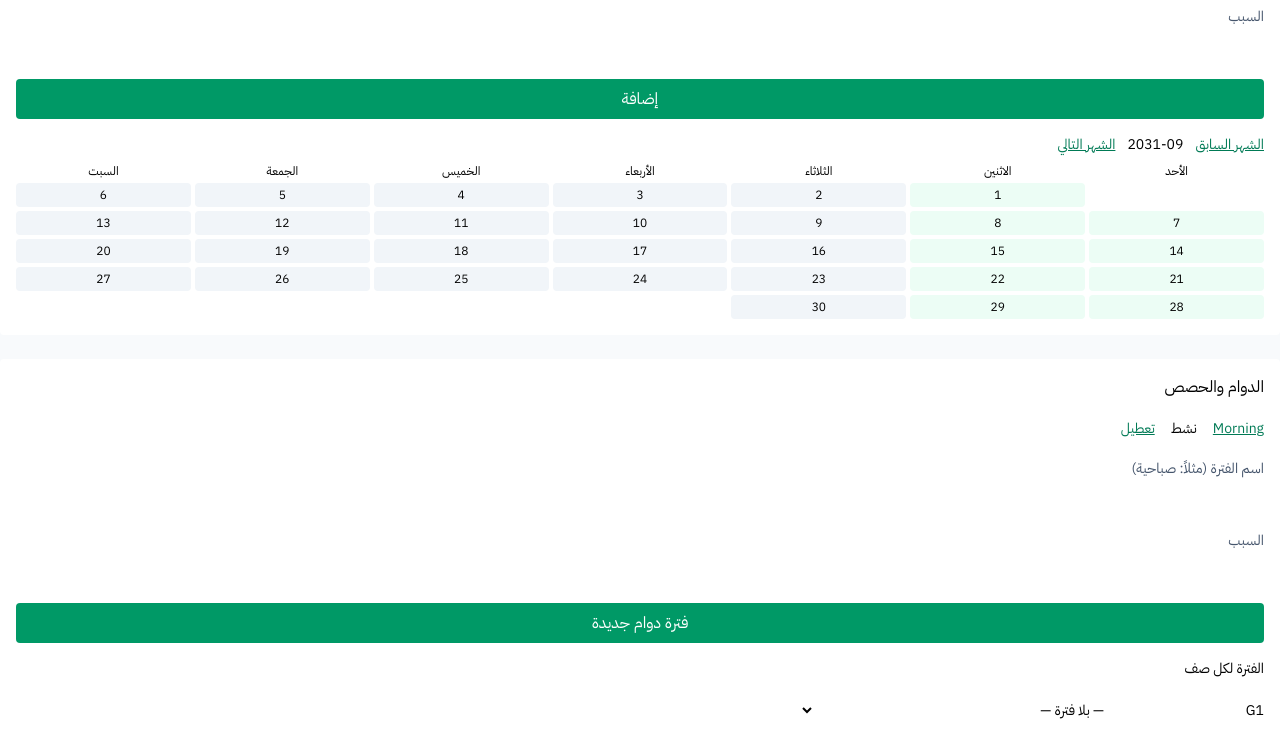
it: year page › bell schedules (2B-3) › an overlapping period: the database refusal is shown translated
(page scrolled)
Click the button with test id "bell-schedule-open-Morning": (1238, 429) top-left (1213, 419), bottom-right (1264, 439)
(page scrolled)
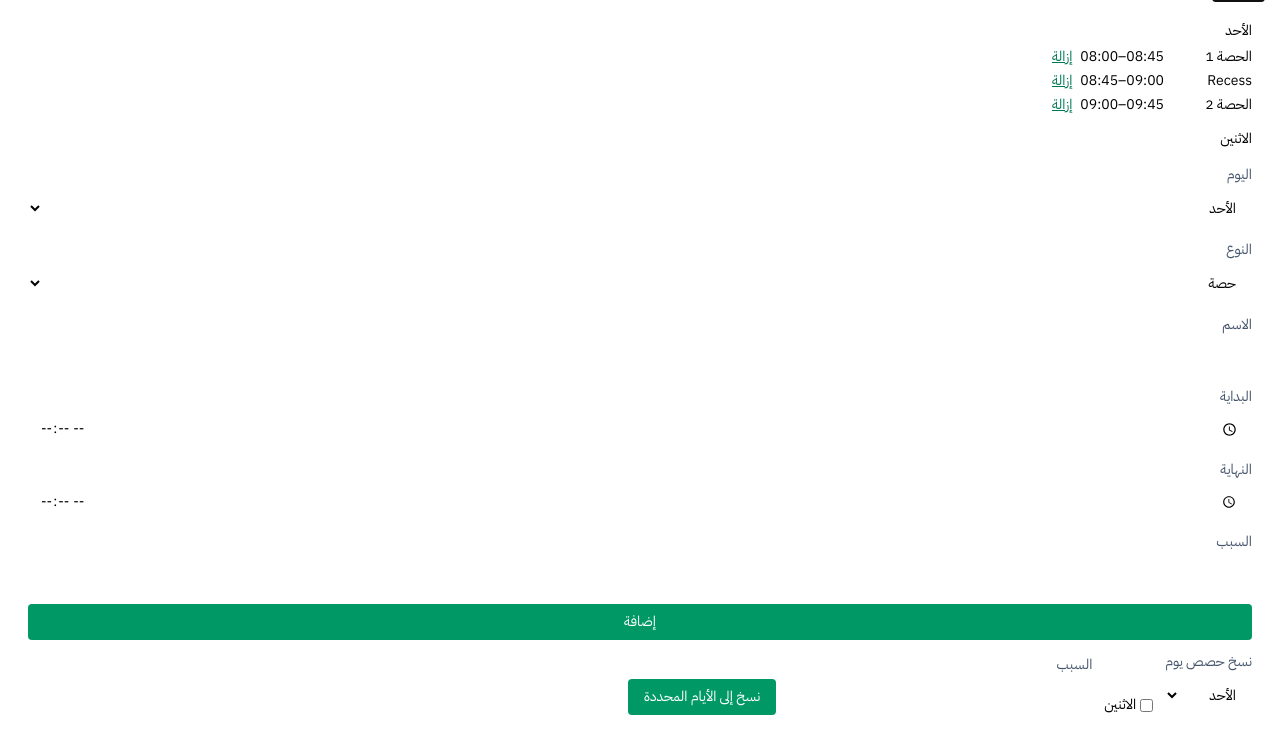
In the time field with test id "bell-period-start": (640, 429) top-left (28, 411), bottom-right (1252, 448), type "09:30"
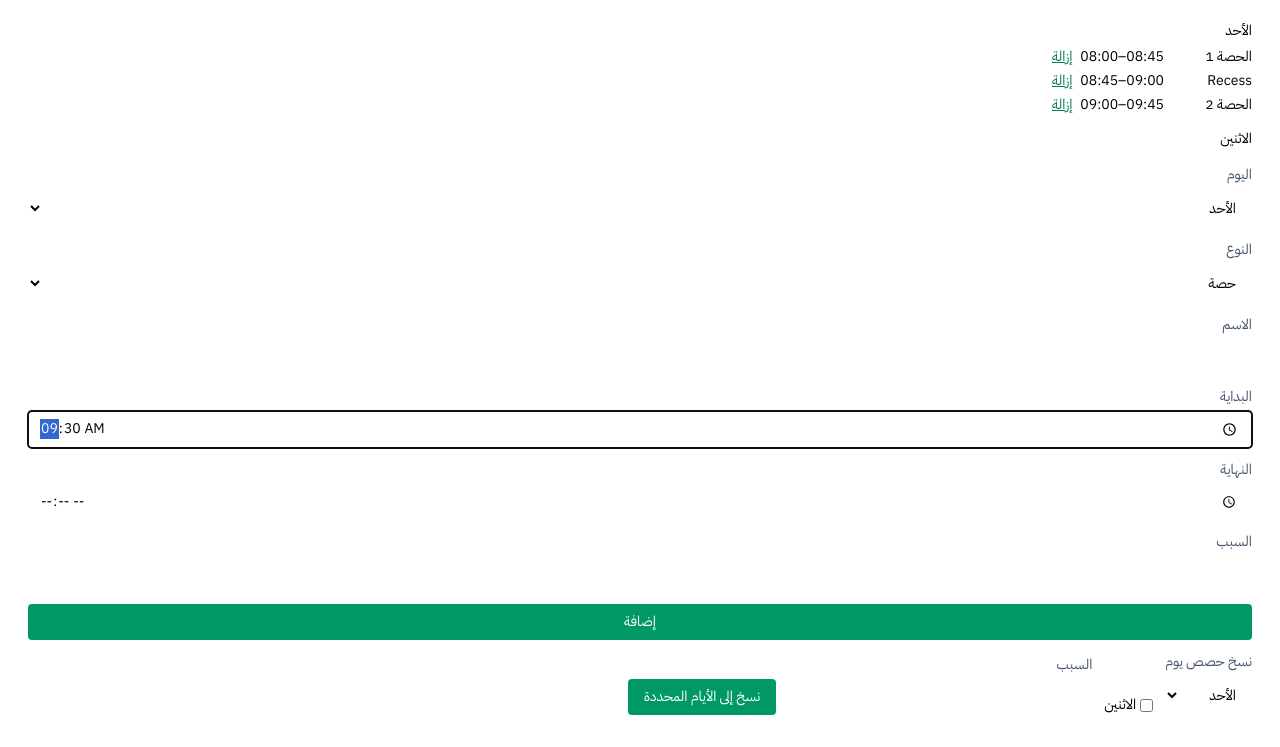
In the time field with test id "bell-period-end": (640, 502) top-left (28, 484), bottom-right (1252, 520), type "10:30"
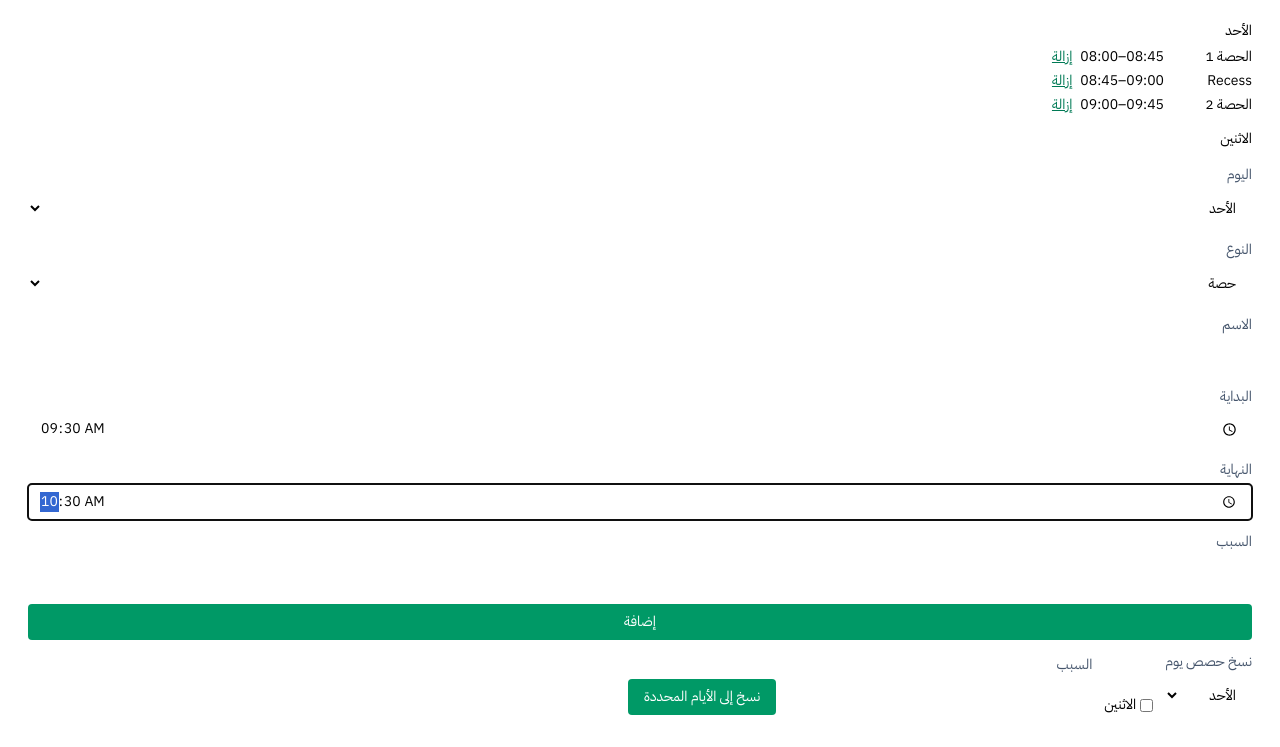
Click the button with test id "bell-period-submit": (640, 622) top-left (28, 604), bottom-right (1252, 640)
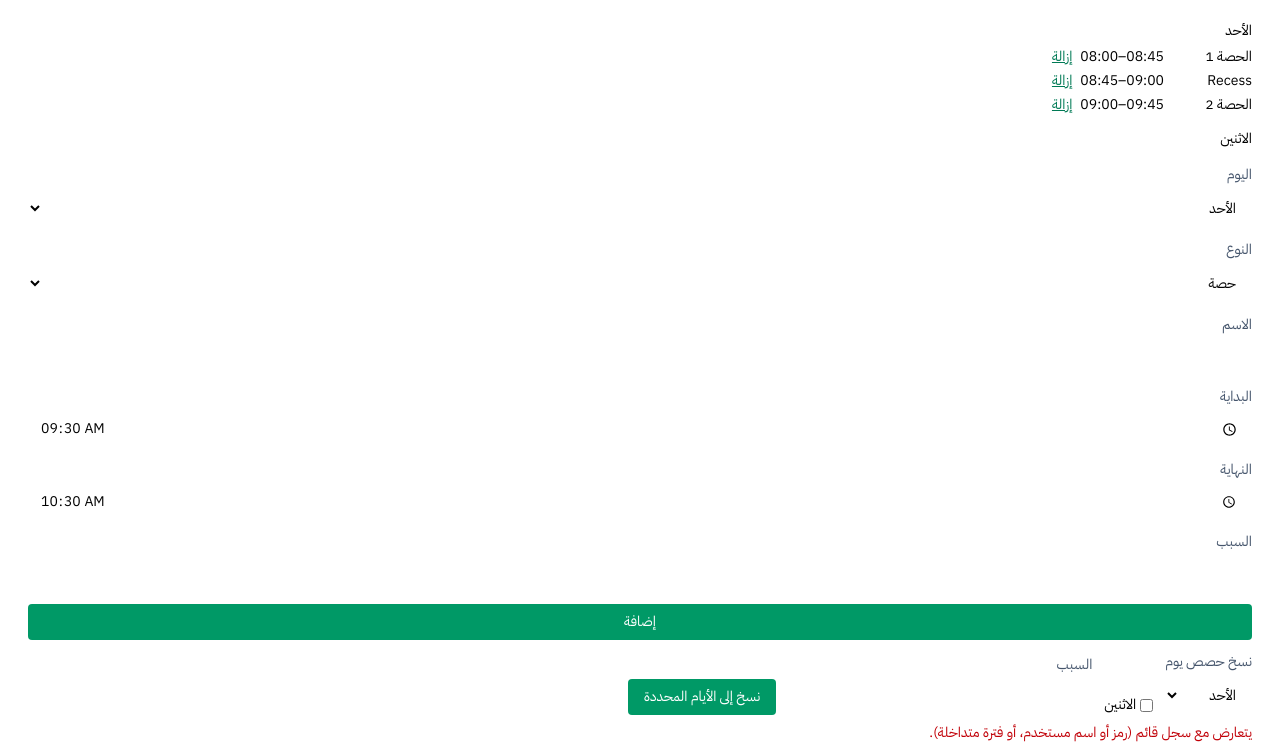
Result: the message with test id "bell-periods-error-Morning" reads "يتعارض مع سجل قائم (رمز أو اسم مستخدم، أو فترة متداخلة)." at top-left (929, 722), bottom-right (1252, 743)
